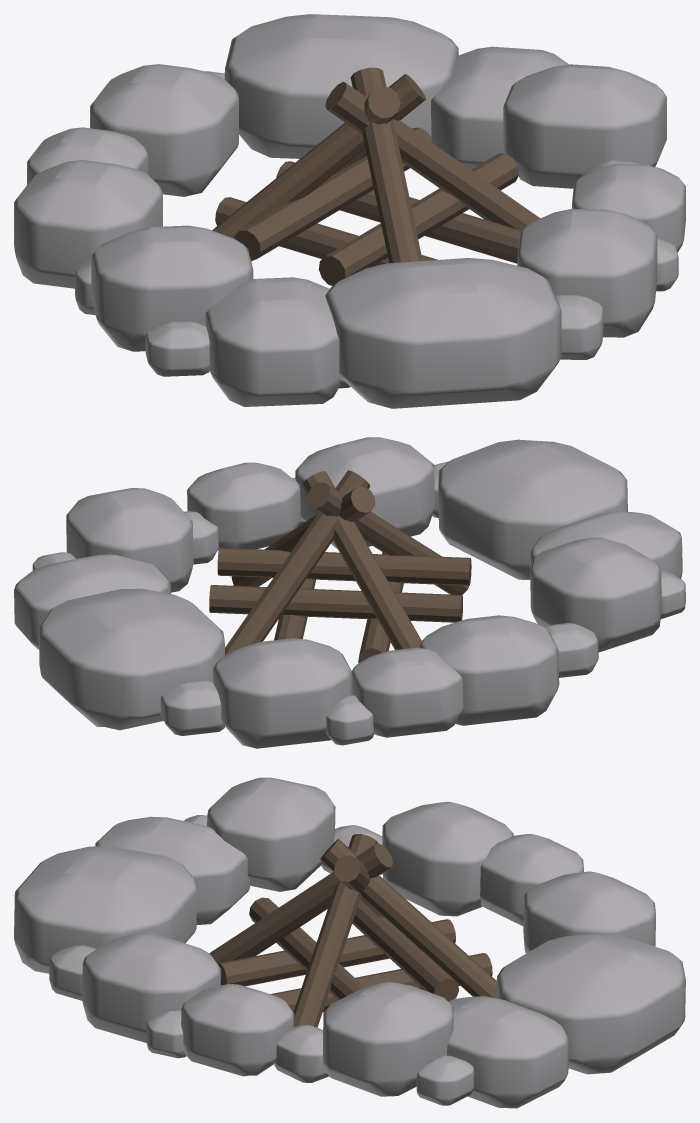
The model's file is campfire.fbx.
The picture shows the model from 3 angles, top to bottom: view 1: azimuth 30°, elevation 25°; view 2: azimuth 150°, elevation 25°; view 3: azimuth 270°, elevation 25°; orthographic projection. The views are drawn at different scales.
Parts seen in each view (by area): view 1: polySurface302; view 2: polySurface302; view 3: polySurface302.
Part boxes in pixels (<box>): polySurface302: <box>14,14,685,408</box>; polySurface302: <box>14,437,685,748</box>; polySurface302: <box>14,777,685,1108</box>.
Bounding box in the file's own units: 3.64 × 1.09 × 3.98.
